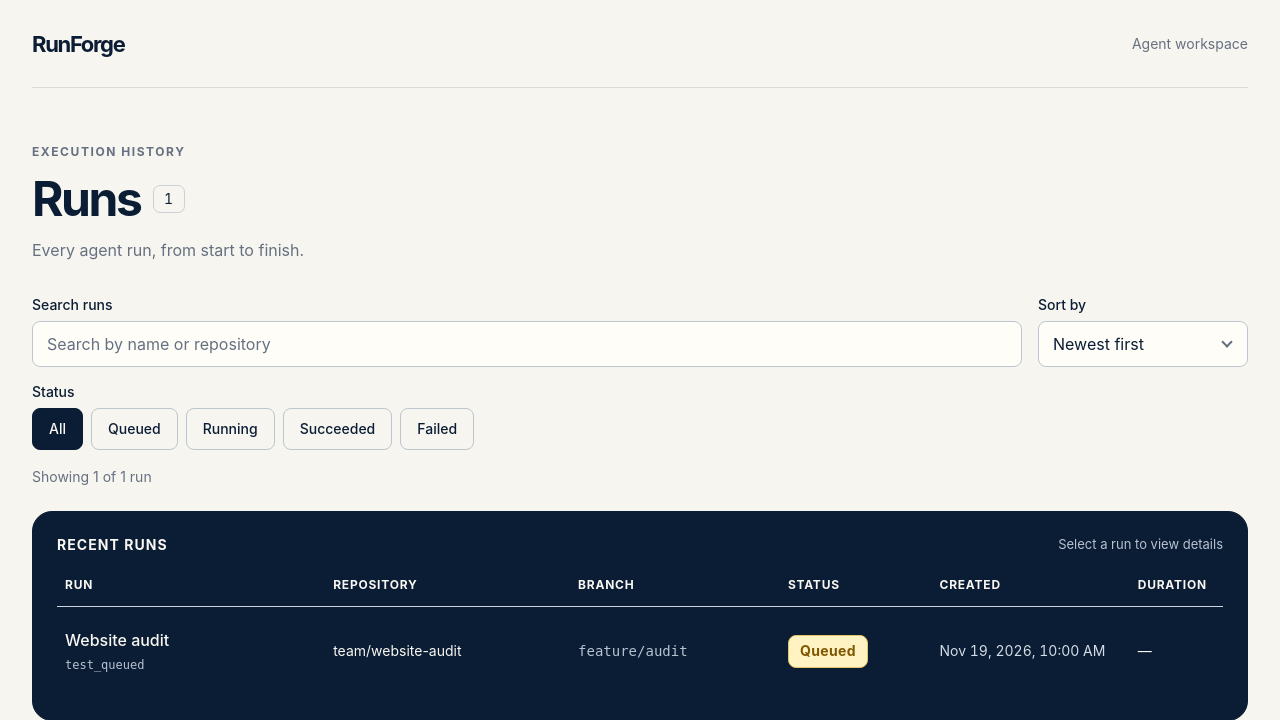
Test: корректно отображает отсутствие длительности и результата без вымышленных значений
The width and height of the screenshot is (1280, 720).
Check: the text "—" is shown, box x1=1138 y1=642 x2=1152 y2=659
Click the button "Website audit".
click(191, 640)  # box x1=65 y1=628 x2=317 y2=652
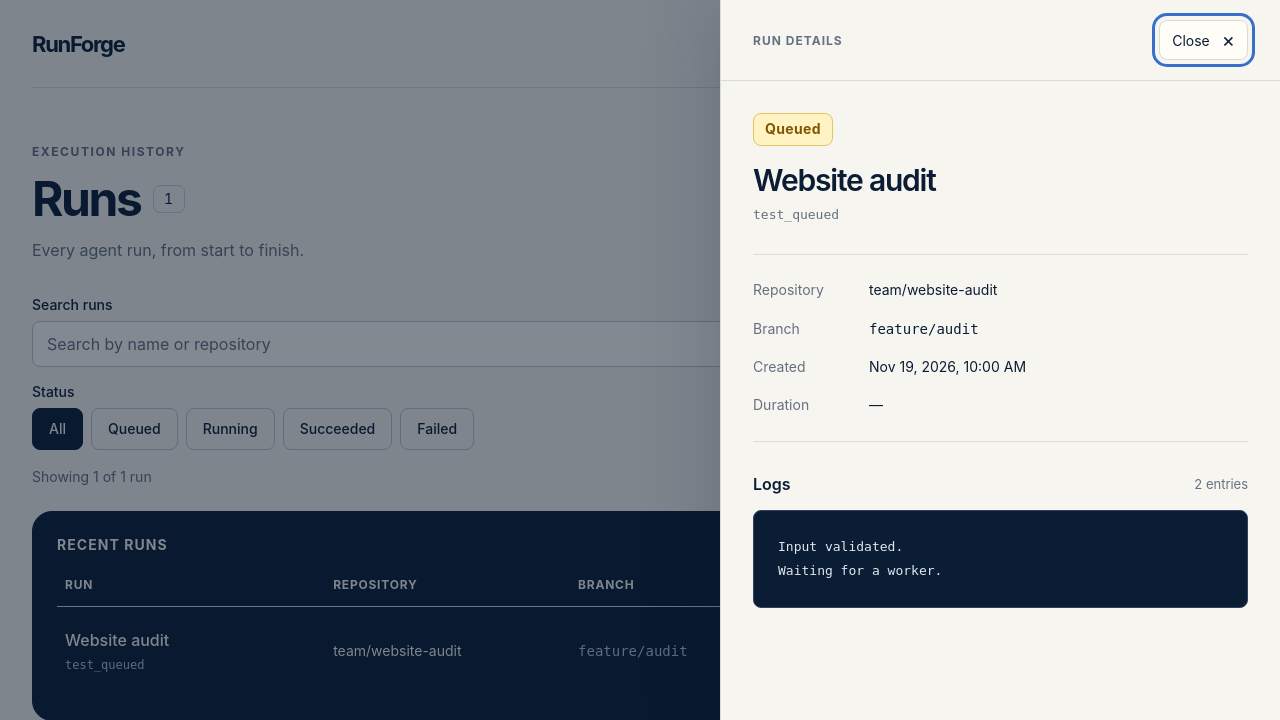
Check: the text "—" is shown, box x1=869 y1=396 x2=883 y2=414
